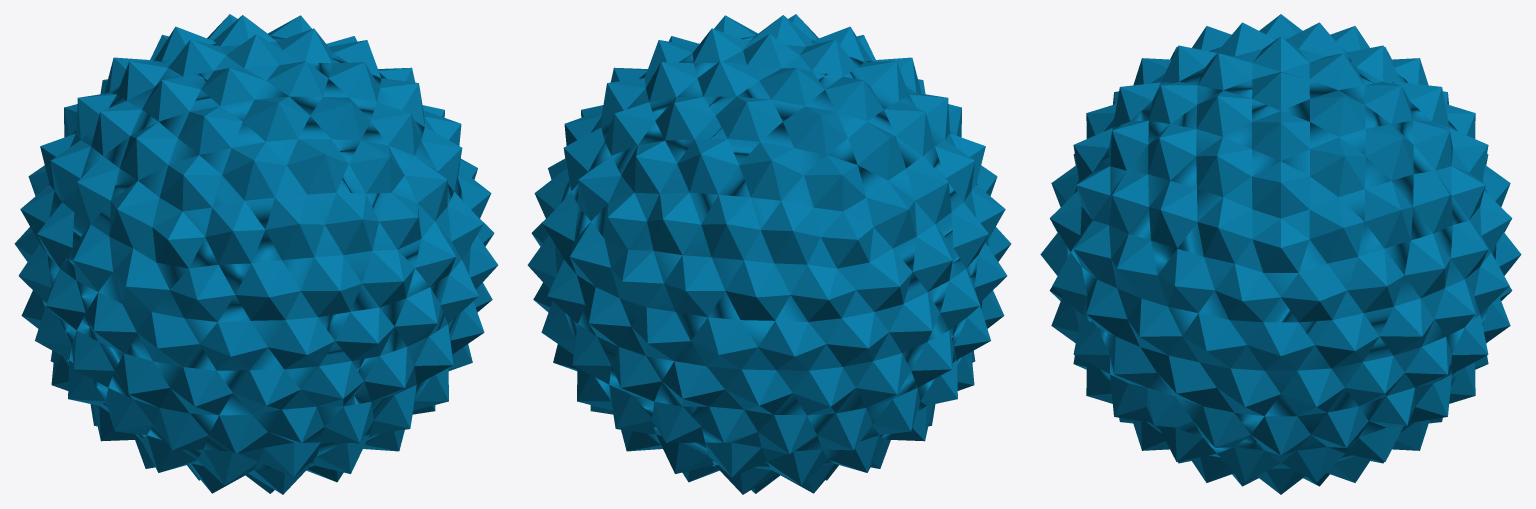
Rendered from lychee.FBX.
3 views of the same model, side by side, from view 1: azimuth 30°, elevation 25°; view 2: azimuth 150°, elevation 25°; view 3: azimuth 270°, elevation 25° (orthographic).
Visible parts, largest first — view 1: lychee; view 2: lychee; view 3: lychee.
Part boxes in pixels (<box>): lychee: <box>14,14,498,494</box>; lychee: <box>527,14,1011,494</box>; lychee: <box>1040,14,1521,494</box>.
Bounding box in the file's own units: 11.46 × 11.46 × 11.46.
